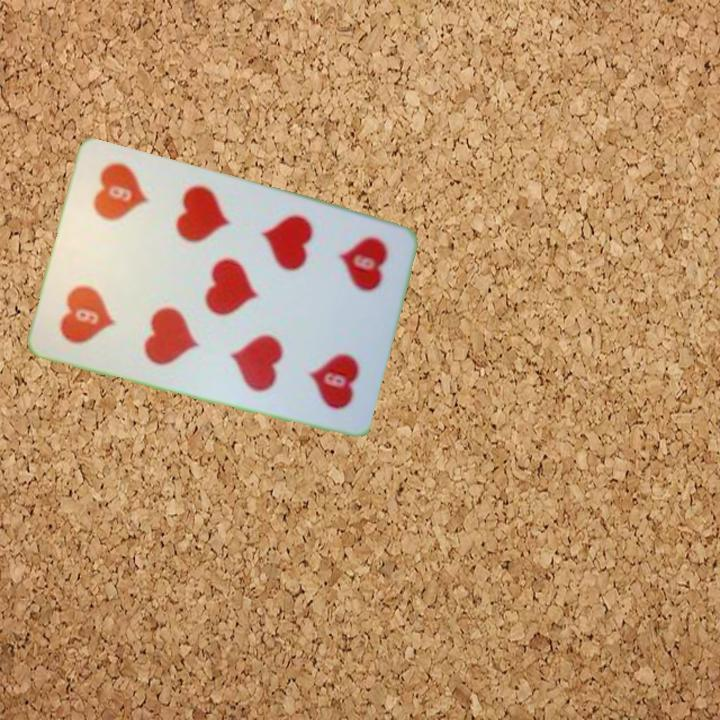h_9.png: (295, 216, 403, 334), (43, 245, 151, 363)
